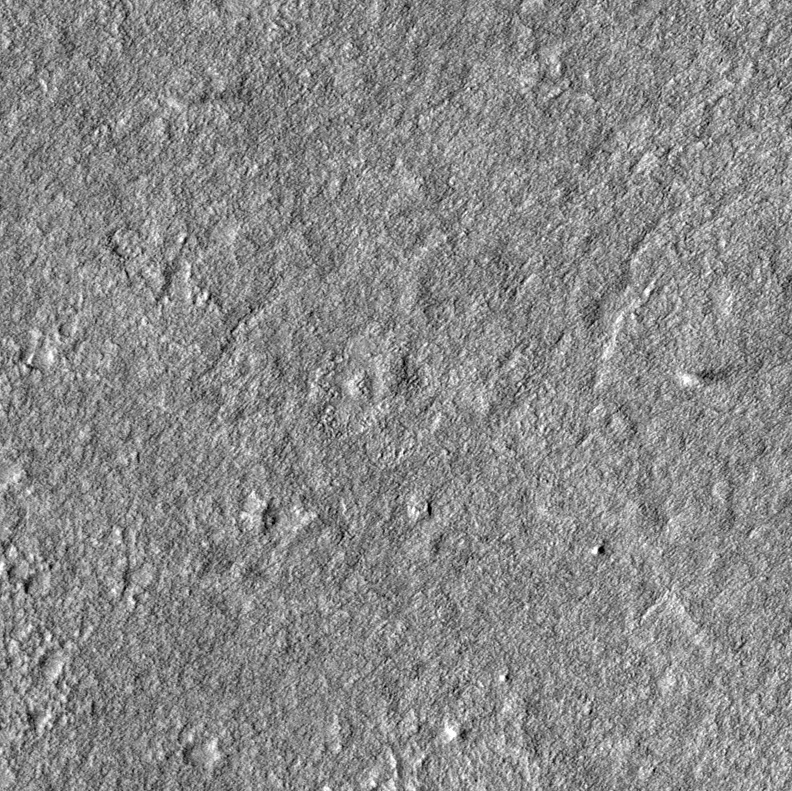dust_devil: (677, 366, 736, 392)
